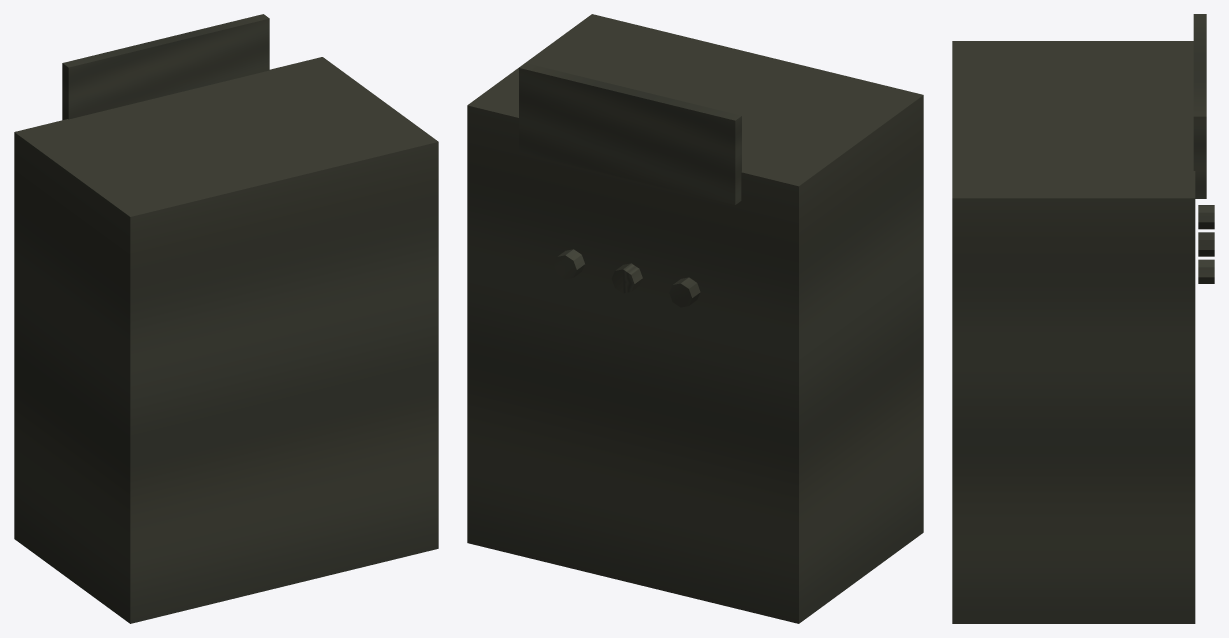
The model's file is env_bunker_pillbox_a.glb.
The picture shows the model from 3 angles, left to right: view 1: azimuth 30°, elevation 25°; view 2: azimuth 150°, elevation 25°; view 3: azimuth 270°, elevation 25°; orthographic projection. The views are drawn at different scales.
Parts seen in each view (by area): view 1: env_bunker_pillbox_a; view 2: env_bunker_pillbox_a; view 3: env_bunker_pillbox_a.
Boxes of the visible parts, x1=… form: env_bunker_pillbox_a: x1=14, y1=14, x2=438, y2=623; env_bunker_pillbox_a: x1=467, y1=14, x2=923, y2=623; env_bunker_pillbox_a: x1=952, y1=14, x2=1214, y2=623.
Bounding box in the file's own units: 1.15 × 1.66 × 0.81.
Materials: 1 (1 with a texture image).
